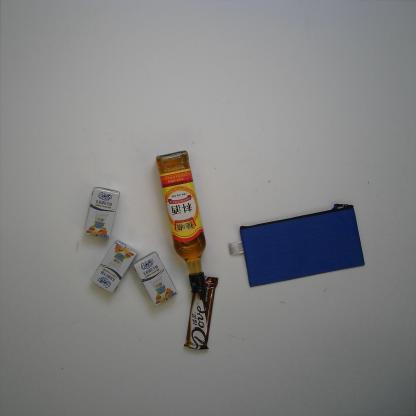Chocolate: (184, 273, 218, 354)
Milk: (90, 237, 138, 296), (134, 251, 179, 308), (83, 185, 121, 240)
Seasoner: (153, 147, 210, 295)
Stationery: (225, 199, 365, 290)
